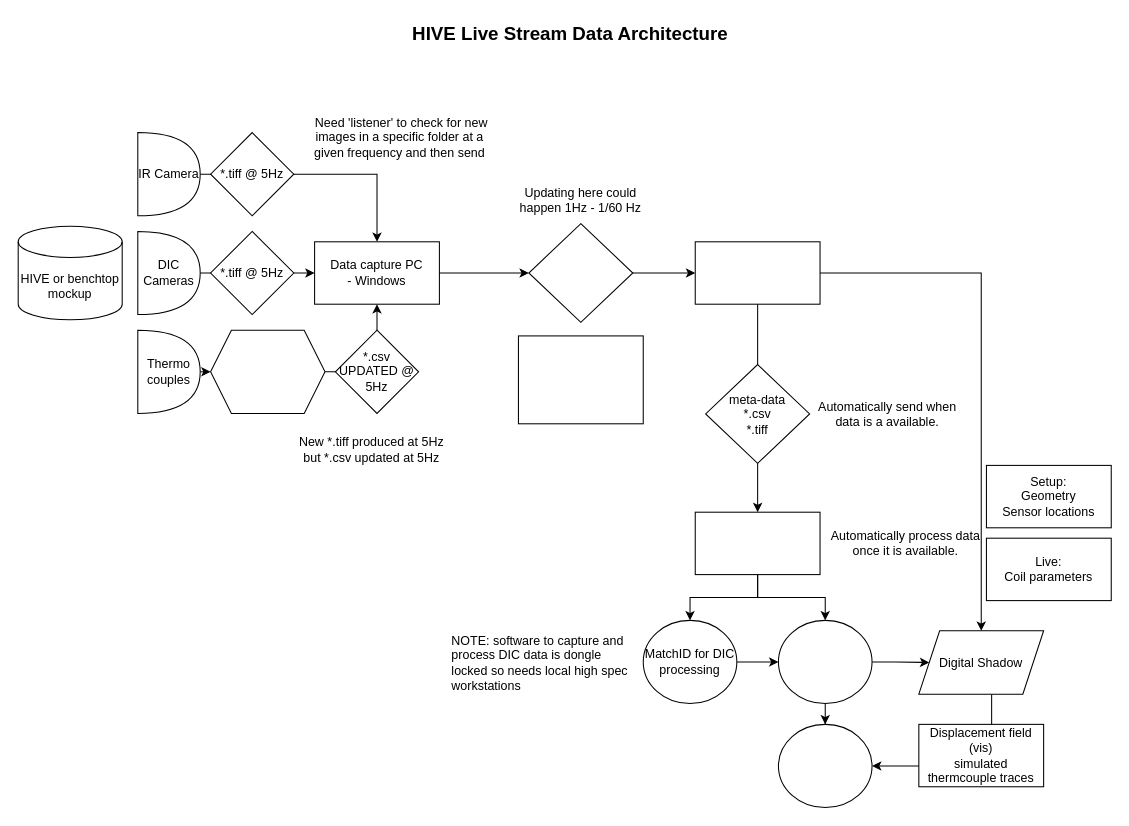
Some shapes in this 1129 by 826 pixel diagram are drawn without their labels. Each missing label, with the centre of its shape:
Data processing PC - Windows: point (757, 543)
displacement fields ux,uy,uz temperature traces coil parameters: point (580, 379)
meta-data *.json *.csv *.tiff: point (580, 272)
National Instruments DAQ: point (267, 371)
Paraview for Visualisation: point (824, 765)
Powerscale: point (757, 272)
pyvista / custom python to convert to vtk: point (824, 661)
